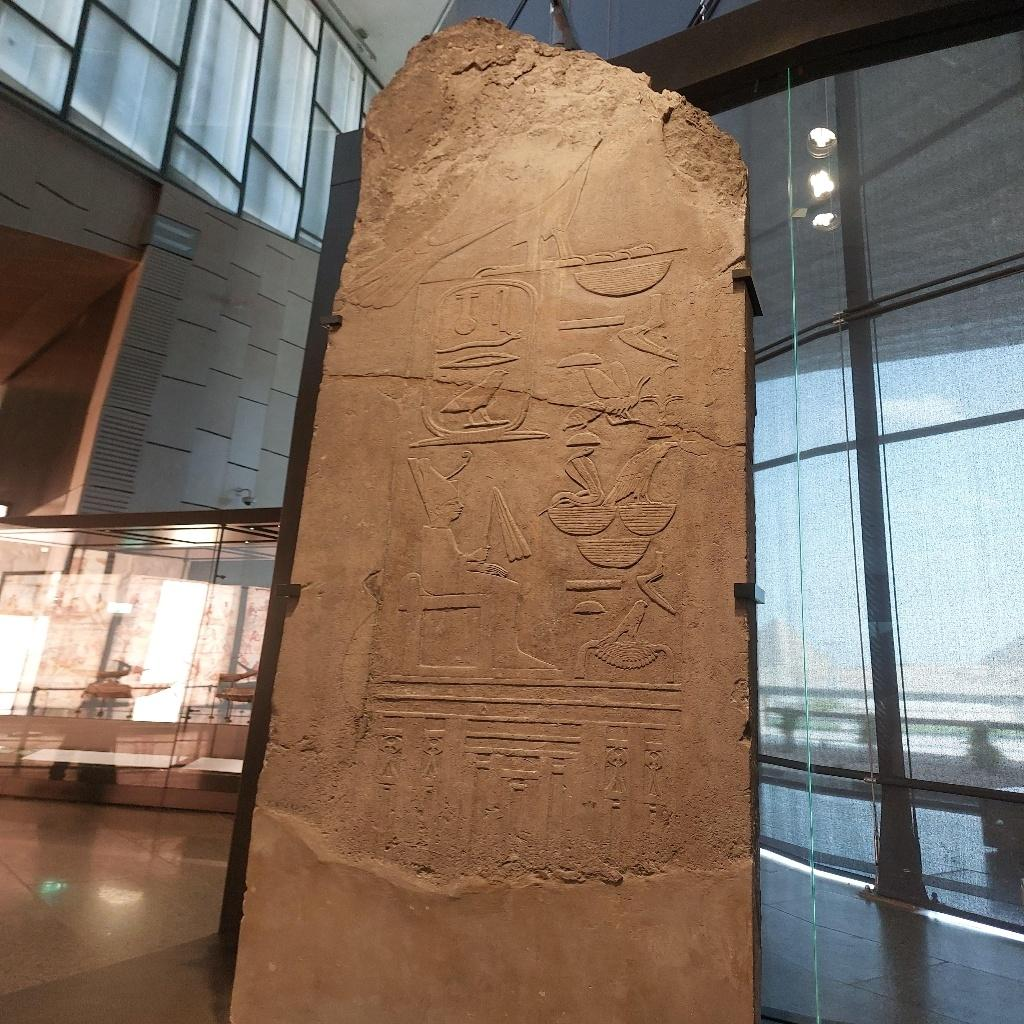Stela of king Snefero: (251, 100, 765, 960)
